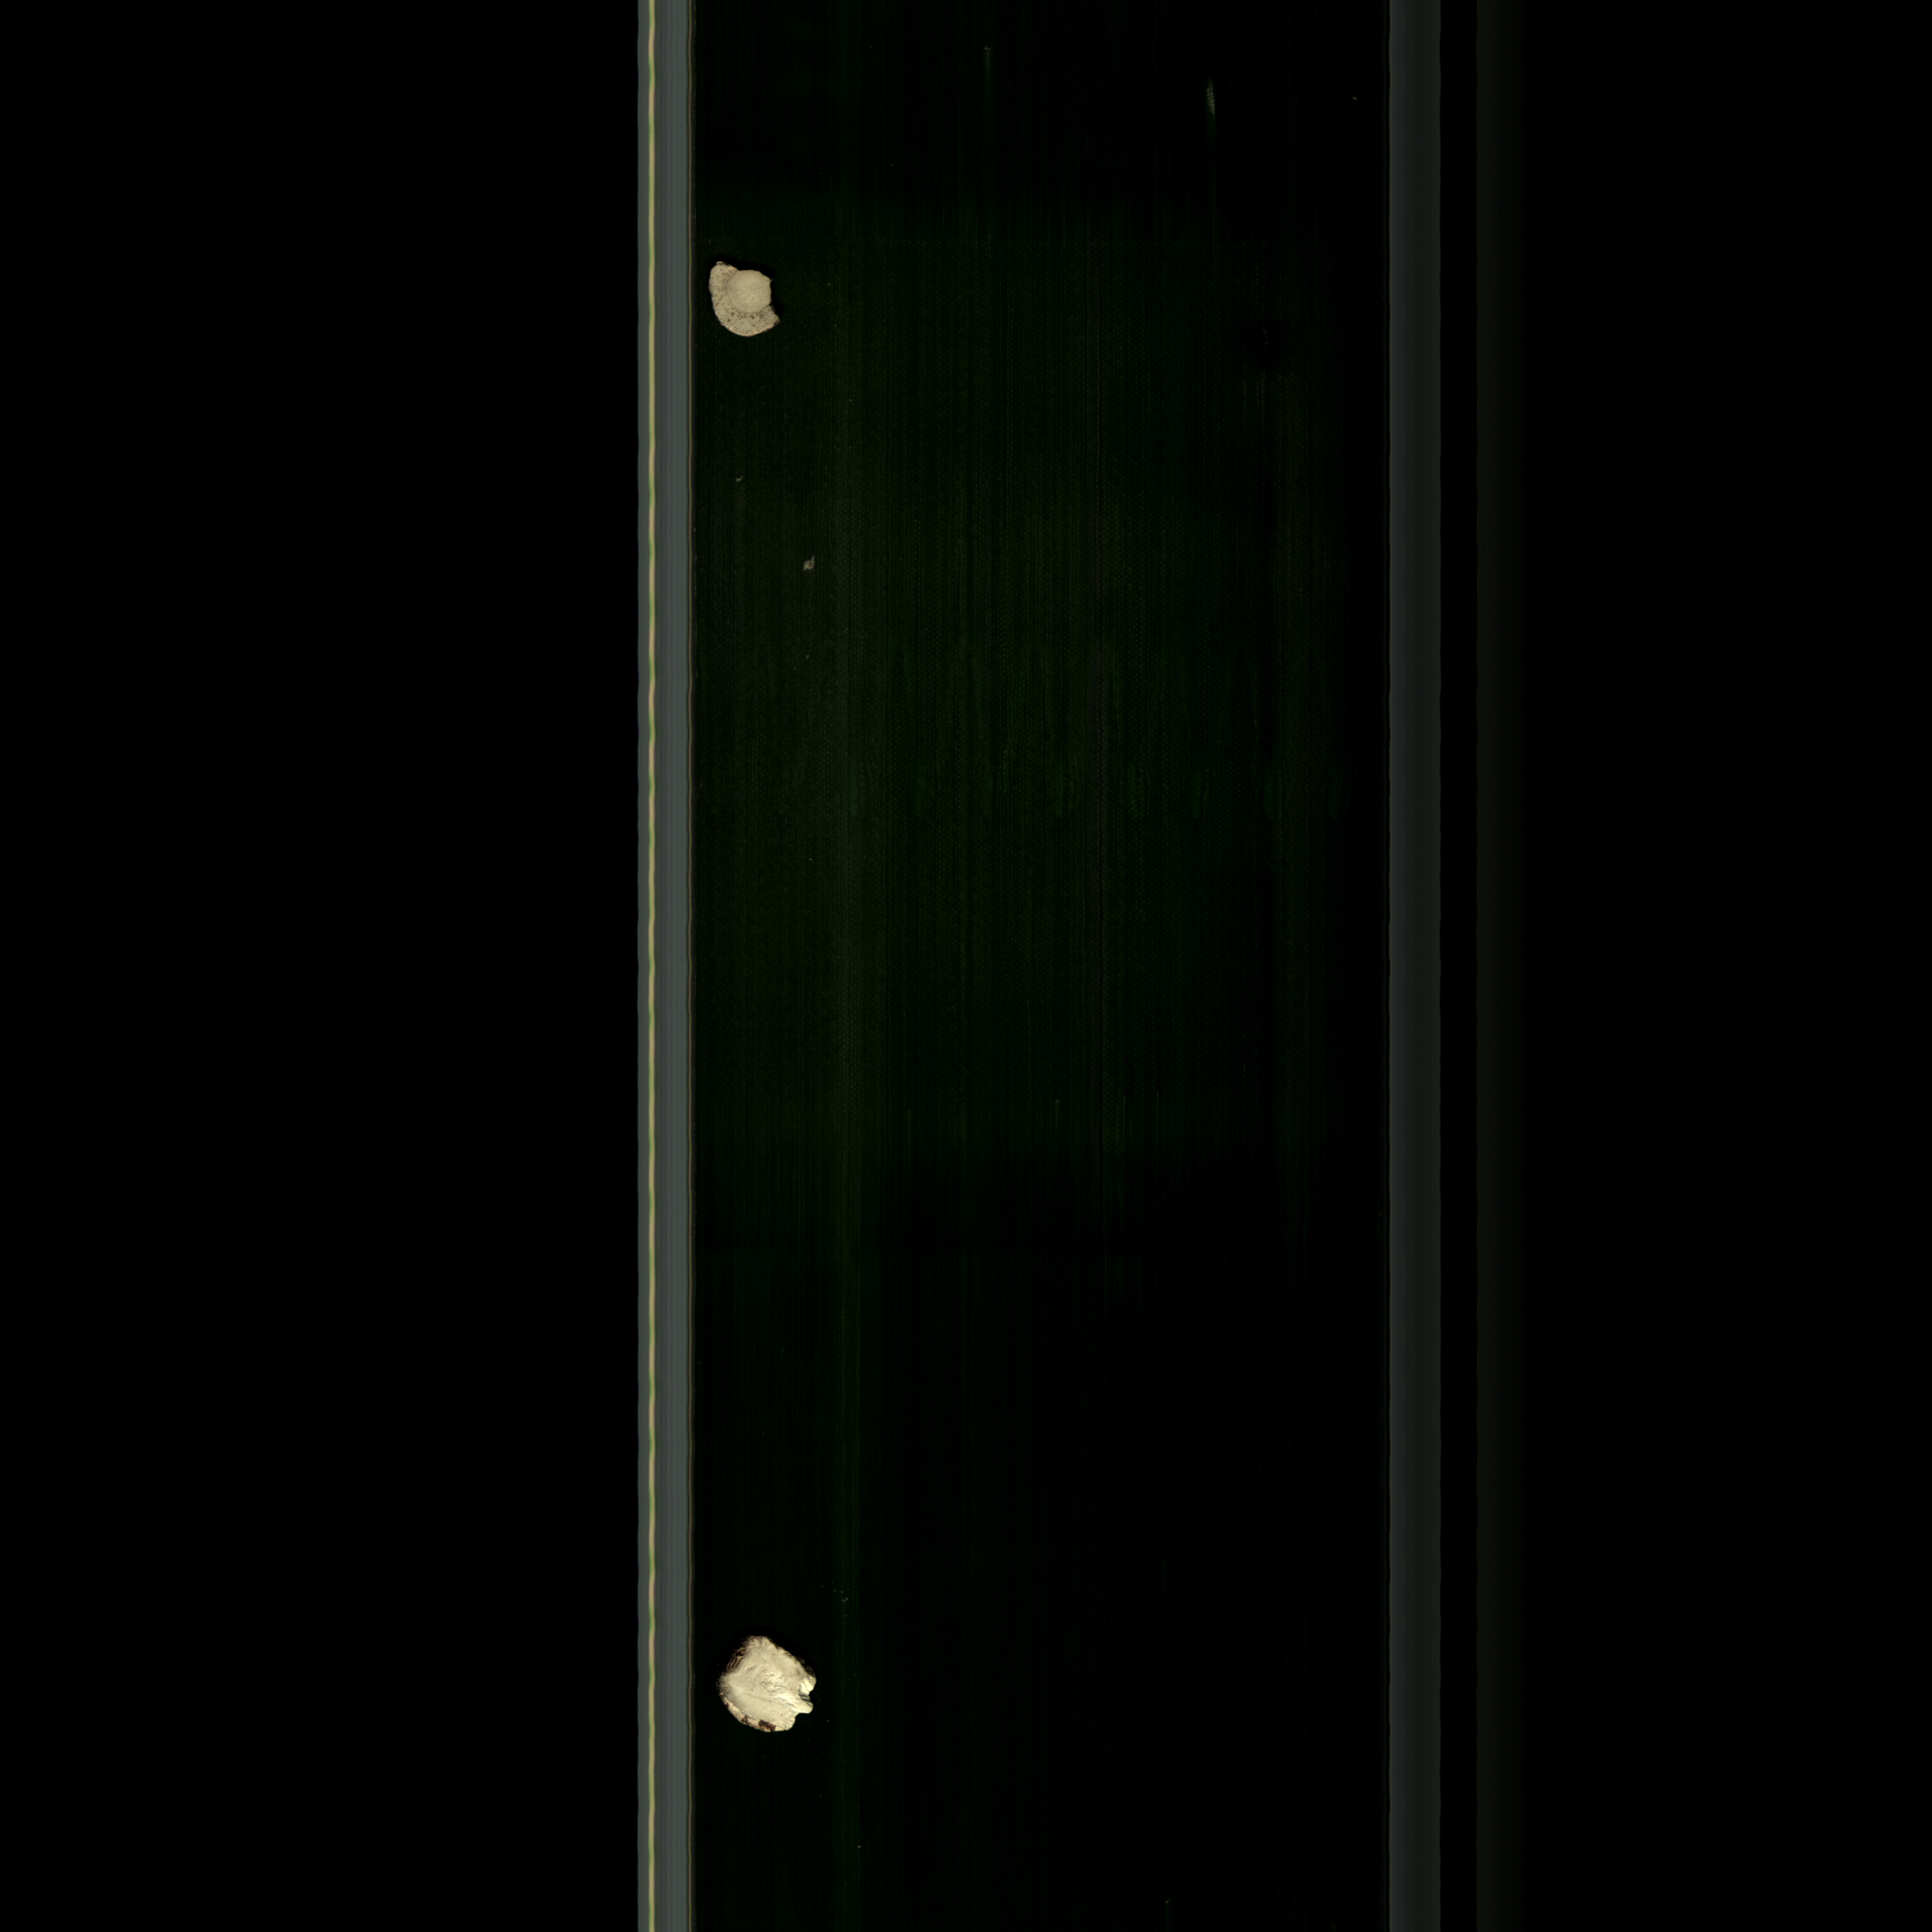debris: (704, 258, 787, 341)
distortion: (715, 1629, 830, 1748)
